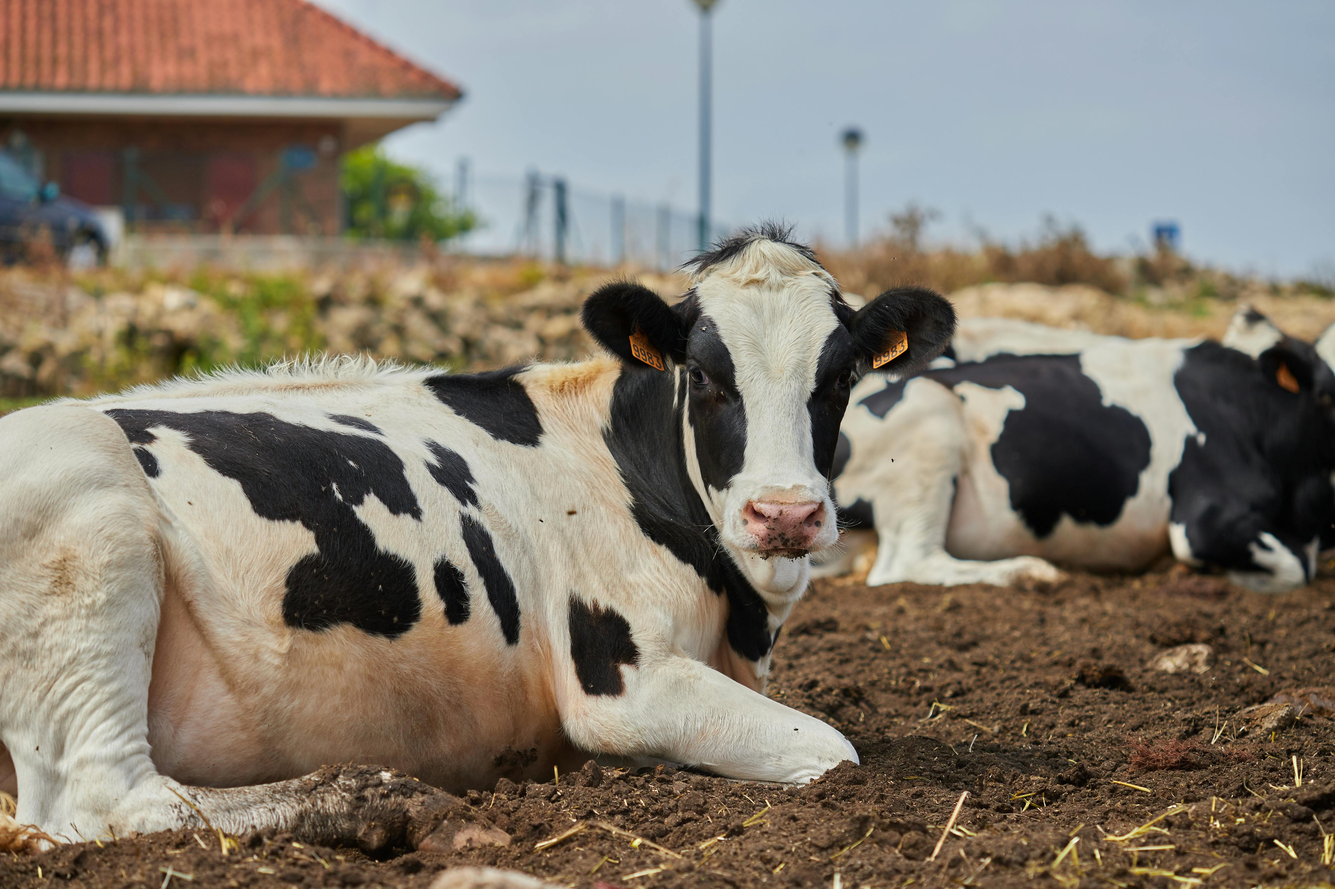bovino: (0, 236, 871, 853)
